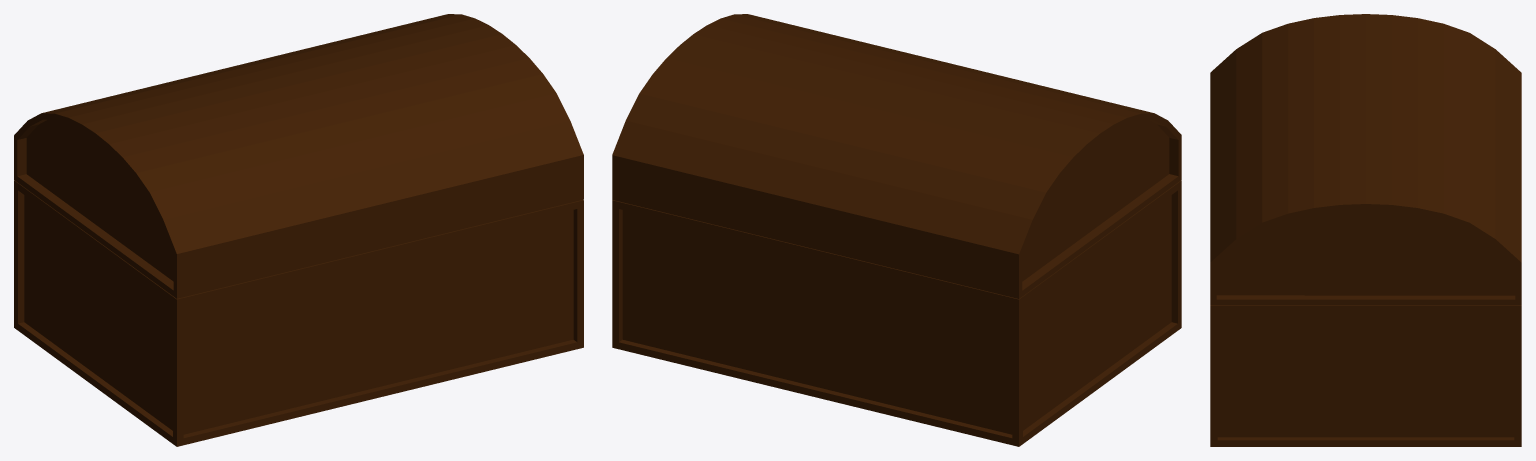
The model's file is Chest-test.glb.
3 views of the same model, side by side, from view 1: azimuth 30°, elevation 25°; view 2: azimuth 150°, elevation 25°; view 3: azimuth 270°, elevation 25° (orthographic). The views are drawn at different scales.
Visible parts, largest first — view 1: Lid, Chest; view 2: Lid, Chest; view 3: Lid, Chest.
Boxes of the visible parts, x1,y1,x2,y2 form: Lid: (14, 14, 583, 298); Chest: (14, 180, 583, 446); Lid: (612, 14, 1181, 298); Chest: (612, 180, 1181, 446); Lid: (1210, 14, 1521, 305); Chest: (1210, 305, 1521, 446).
Bounding box in the file's own units: 2.89 × 1.72 × 2.
